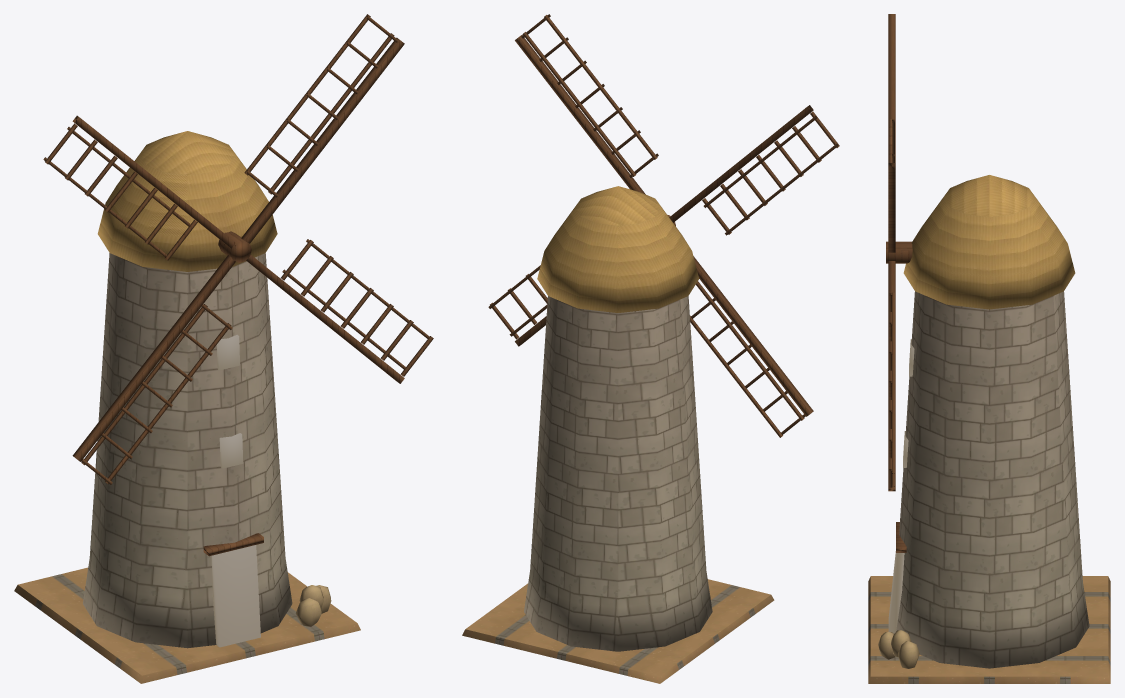
Rendered from windmill.glb.
3 views of the same model, side by side, from view 1: azimuth 30°, elevation 25°; view 2: azimuth 150°, elevation 25°; view 3: azimuth 270°, elevation 25° (orthographic). The views are drawn at different scales.
Parts seen in each view (by area): view 1: scenery.windmill.mesh, sails; view 2: scenery.windmill.mesh, sails; view 3: scenery.windmill.mesh, sails.
Part boxes in pixels (box(x1,y1,x2,y2)): scenery.windmill.mesh: box(14, 131, 360, 683); sails: box(43, 14, 433, 484); scenery.windmill.mesh: box(462, 186, 774, 683); sails: box(488, 14, 839, 437); scenery.windmill.mesh: box(868, 175, 1110, 683); sails: box(886, 14, 912, 491).
Bounding box in the file's own units: 8.46 × 12.53 × 4.8.
6 materials, 5 textured.
